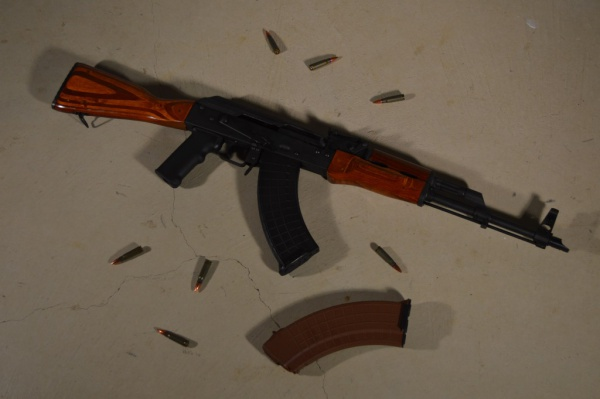ak47: (59, 63, 570, 263)
